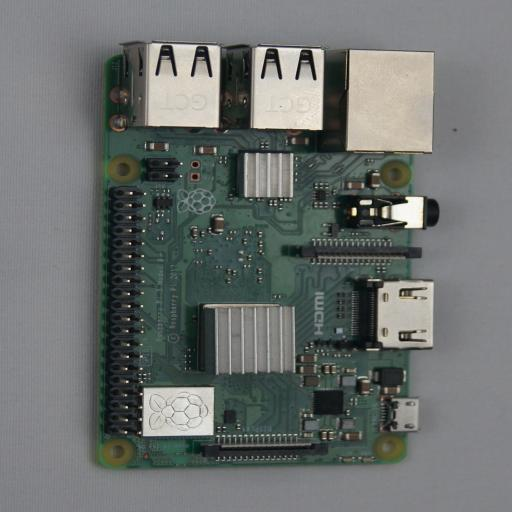Raspberry Pi 3 B-: (82, 40, 456, 471)
